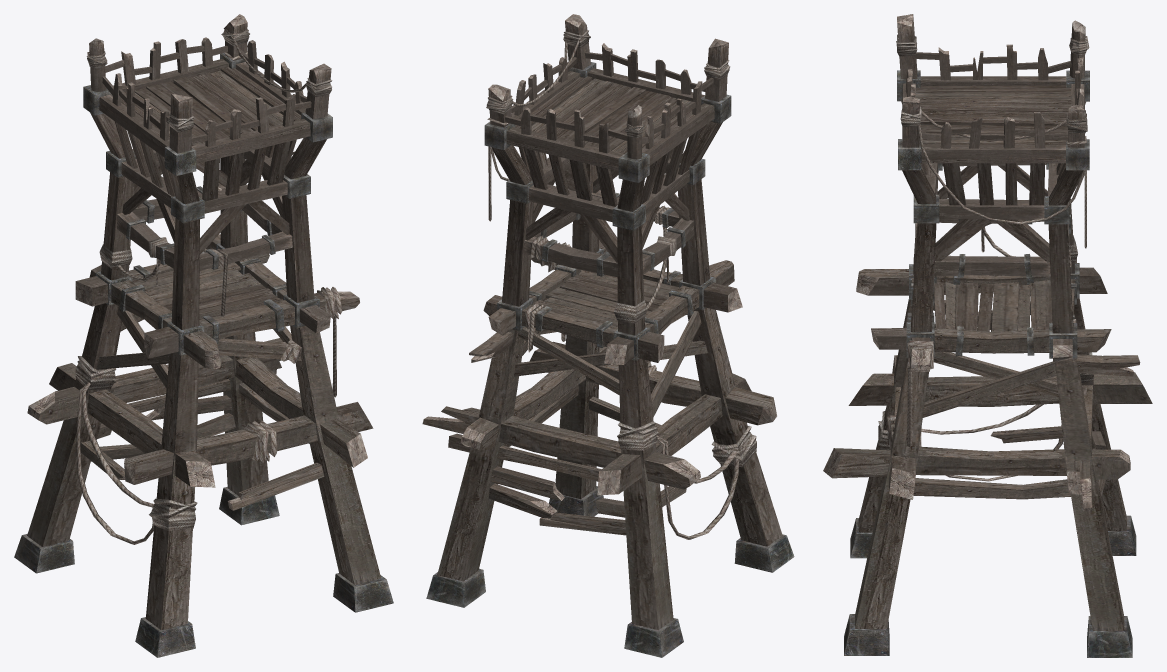
File: bg_anh_mirrorv_op01_sm_old.FBX
The picture shows the model from 3 angles, left to right: view 1: azimuth 30°, elevation 25°; view 2: azimuth 150°, elevation 25°; view 3: azimuth 270°, elevation 25°; orthographic projection. The views are drawn at different scales.
Visible parts, largest first — view 1: bg_anh_mirrorv_op01_sm_old; view 2: bg_anh_mirrorv_op01_sm_old; view 3: bg_anh_mirrorv_op01_sm_old.
Boxes of the visible parts, box(x1,y1,x2,y2) form: bg_anh_mirrorv_op01_sm_old: box(14, 14, 393, 657); bg_anh_mirrorv_op01_sm_old: box(422, 14, 794, 657); bg_anh_mirrorv_op01_sm_old: box(823, 14, 1152, 657).
Size of the model in its own units: 363 by 676 by 369.
